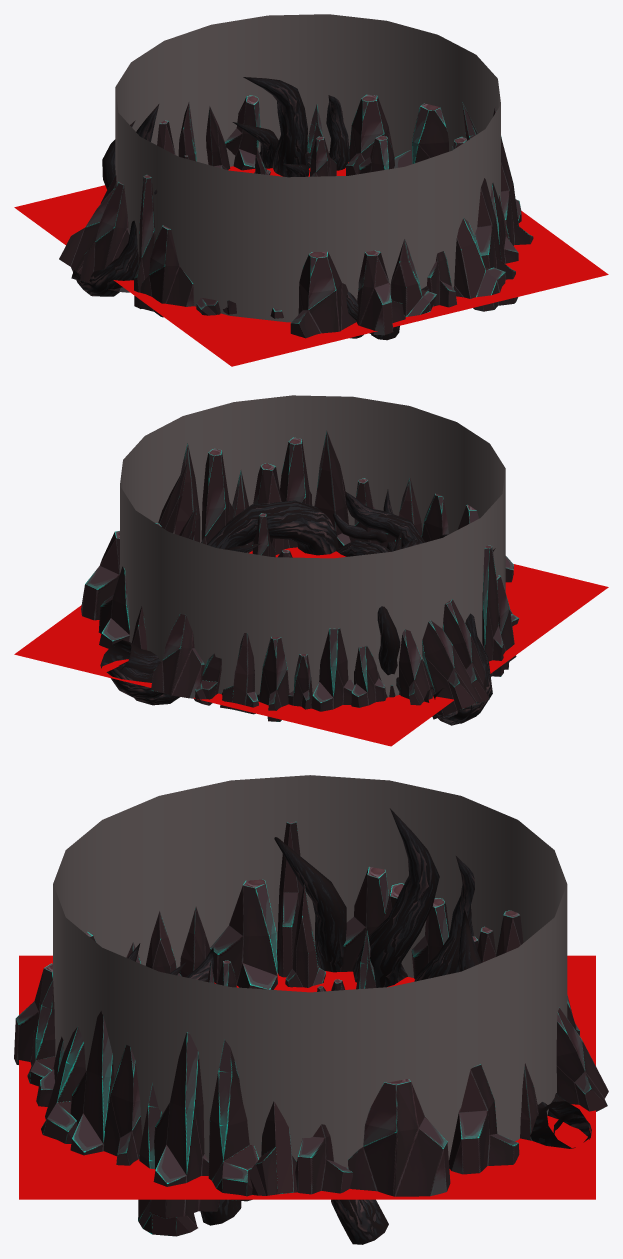
The model's file is Arena_Outer.fbx.
The picture shows the model from 3 angles, top to bottom: view 1: azimuth 30°, elevation 25°; view 2: azimuth 150°, elevation 25°; view 3: azimuth 270°, elevation 25°; orthographic projection. The views are drawn at different scales.
Parts seen in each view (by area): view 1: wall, rock_setup, magma; view 2: wall, rock_setup, magma; view 3: wall, rock_setup, magma.
Part boxes in pixels (<box>): wall: <box>115,14,500,322</box>; rock_setup: <box>59,77,533,340</box>; magma: <box>14,162,608,366</box>; wall: <box>120,395,505,697</box>; rock_setup: <box>81,430,519,725</box>; magma: <box>14,547,608,746</box>; wall: <box>53,775,567,1168</box>; rock_setup: <box>14,808,608,1244</box>; magma: <box>19,955,595,1199</box>.
Bounding box in the file's own units: 1002 × 474 × 976.
